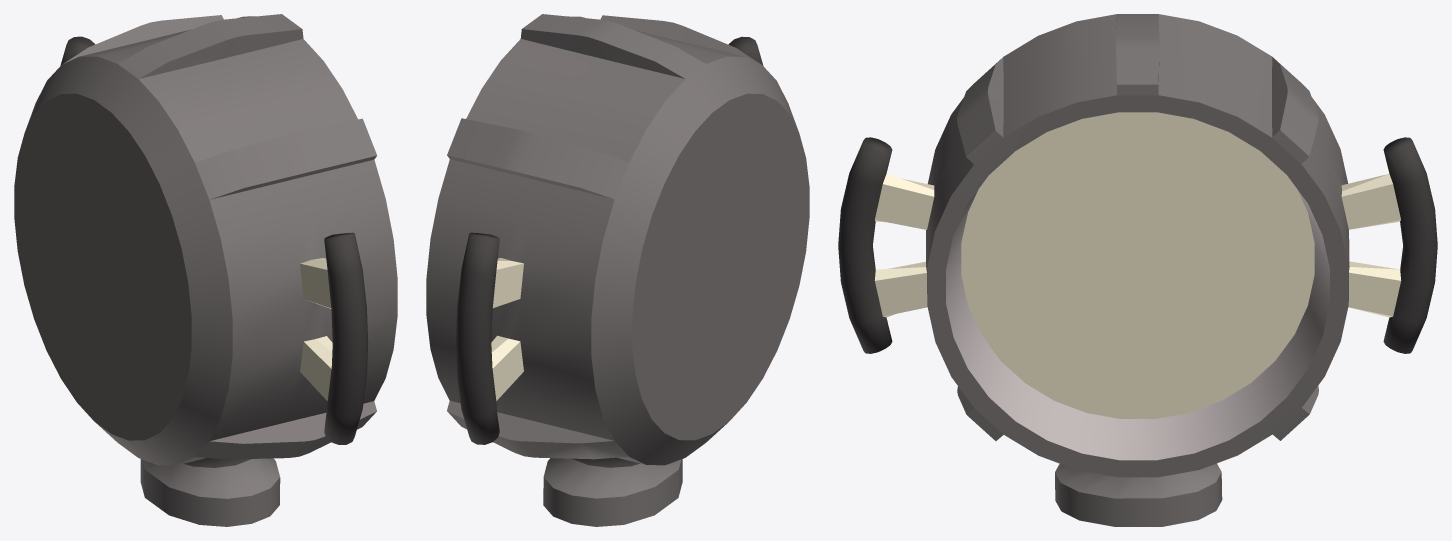
File: spotlight.fbx
The picture shows the model from 3 angles, left to right: view 1: azimuth 30°, elevation 25°; view 2: azimuth 150°, elevation 25°; view 3: azimuth 270°, elevation 25°; orthographic projection.
Visible parts, largest first — view 1: spotlight; view 2: spotlight; view 3: spotlight.
Boxes of the visible parts, <box> form: spotlight: <box>14,14,397,526</box>; spotlight: <box>426,14,809,526</box>; spotlight: <box>838,14,1437,526</box>.
Bounding box in the file's own units: 29.63 × 68.68 × 80.27.
